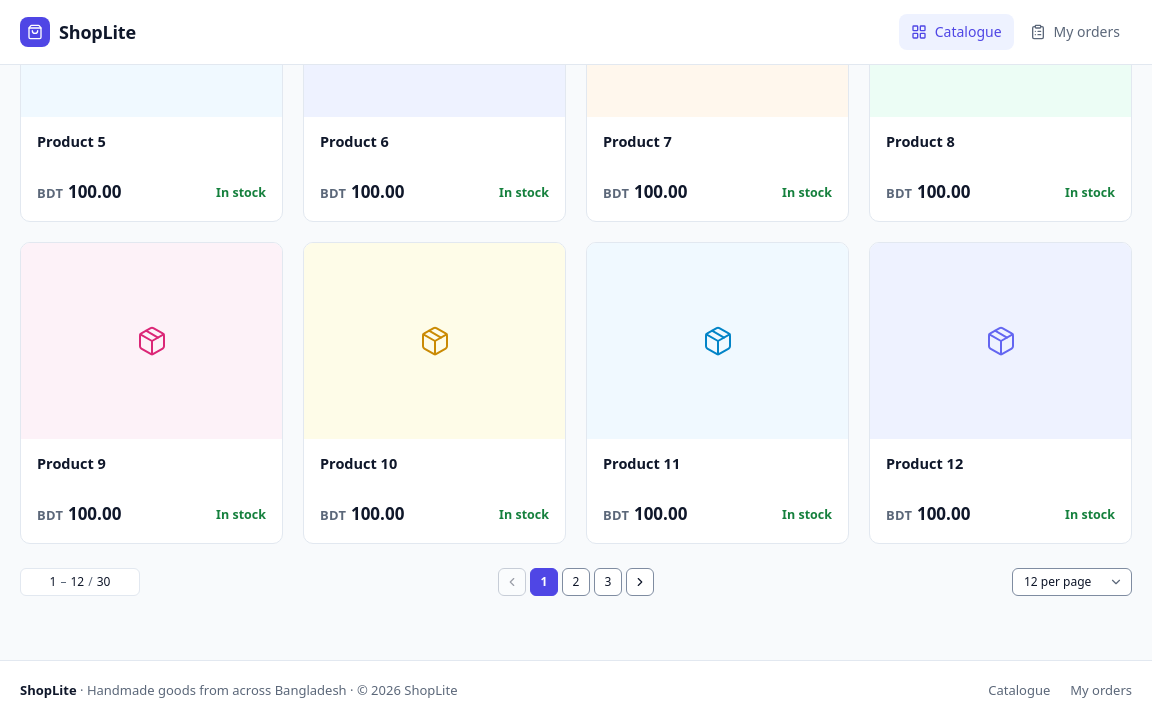
Scenario: catalogue pagination › moves with next, previous and page numbers
The width and height of the screenshot is (1152, 706).
(page scrolled)
Expected: the heading "Product 12" is shown, [886,452,963,472]
Expected: the text "Product 13" is not shown
Click the button named "Next page": coordinates (640, 582) [626,568,654,596]
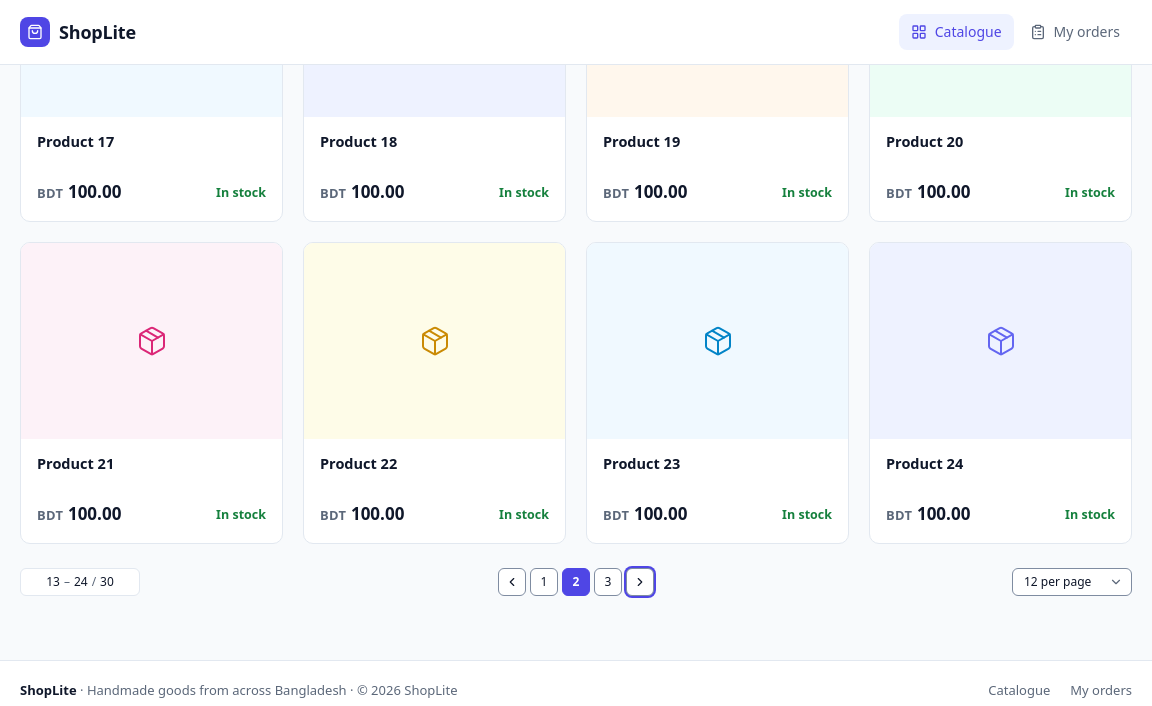
Click the button named "Page 3": coordinates (608, 582) [594,568,622,596]
(page scrolled)
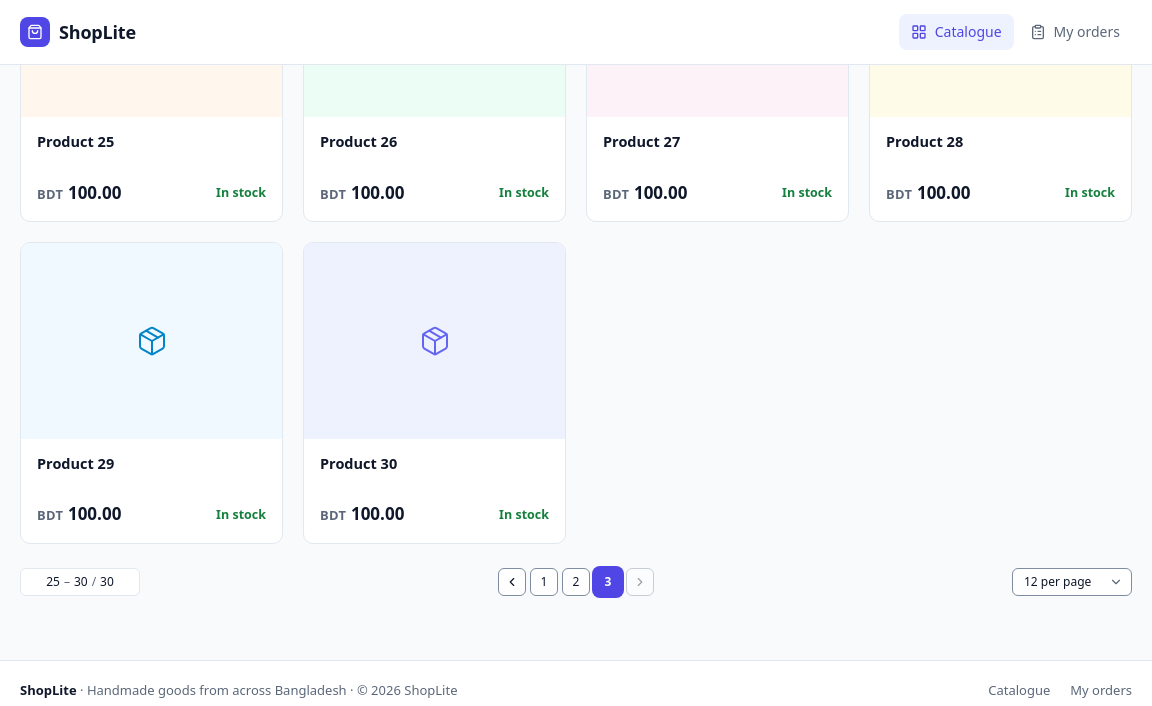
Expected: the button named "Next page" is disabled, [626,568,654,596]
Now the heading "Product 30" is shown, box [320,453,397,473]
Now the link "Product 24" is gone
Click the button named "Previous page": coordinates (512, 582) [498,568,526,596]
(page scrolled)
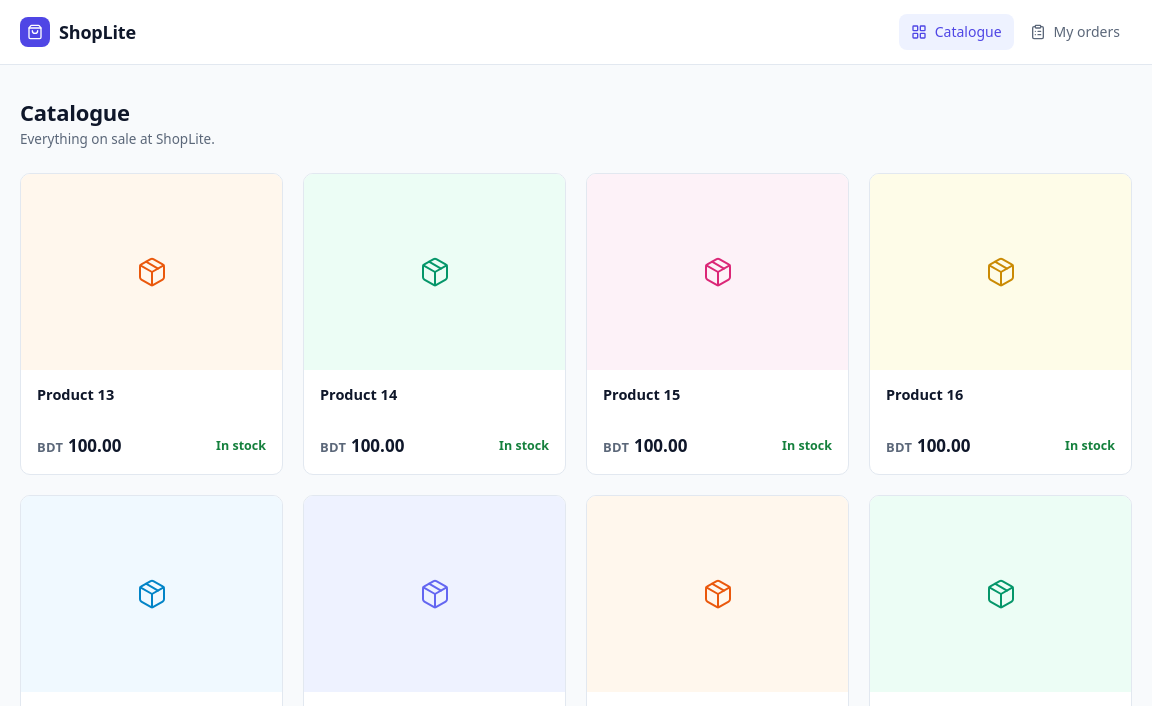
Now the heading "Product 13" is shown, box [37,384,114,404]
Now the link "Product 30" is gone
